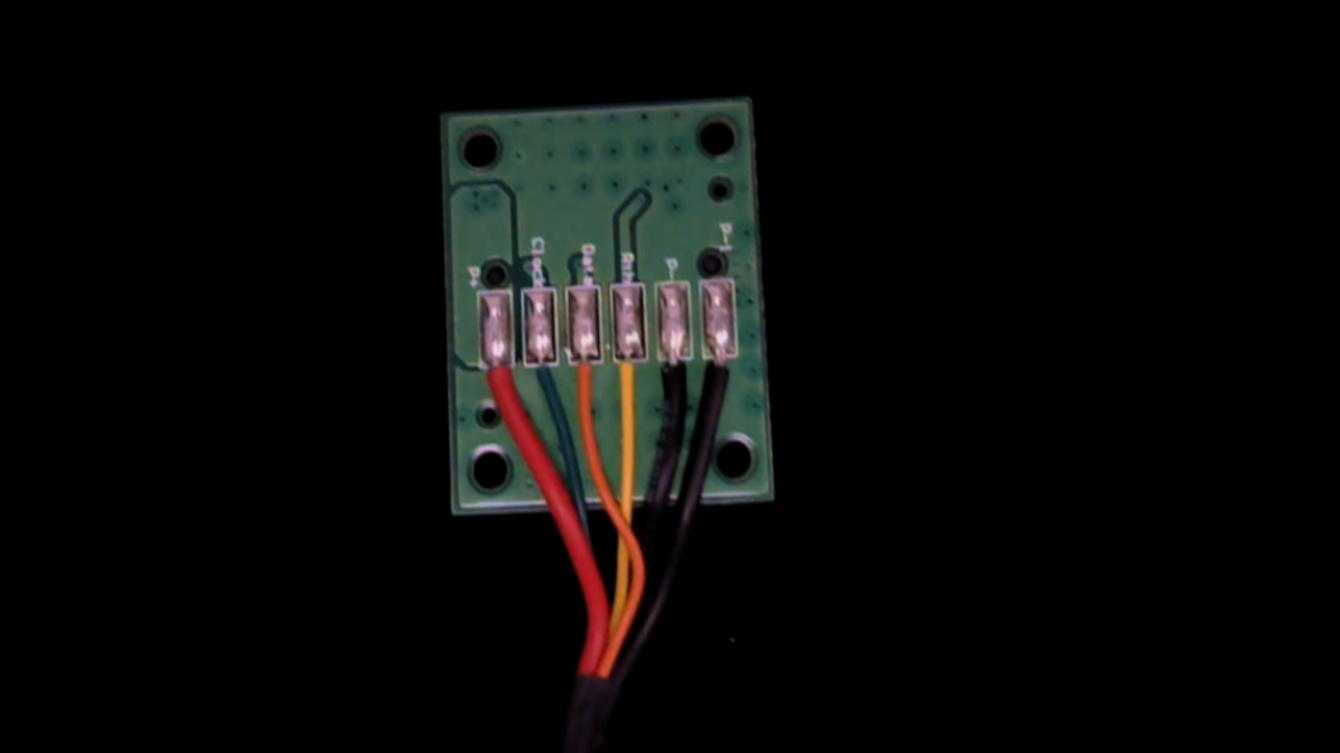Black: (656, 339, 691, 408)
Black1: (702, 338, 736, 416)
Green: (523, 339, 558, 416)
Orange: (566, 340, 601, 423)
Red: (478, 341, 514, 412)
Yellow: (612, 338, 645, 419)
